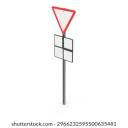preferencia: (47, 1, 79, 36)
